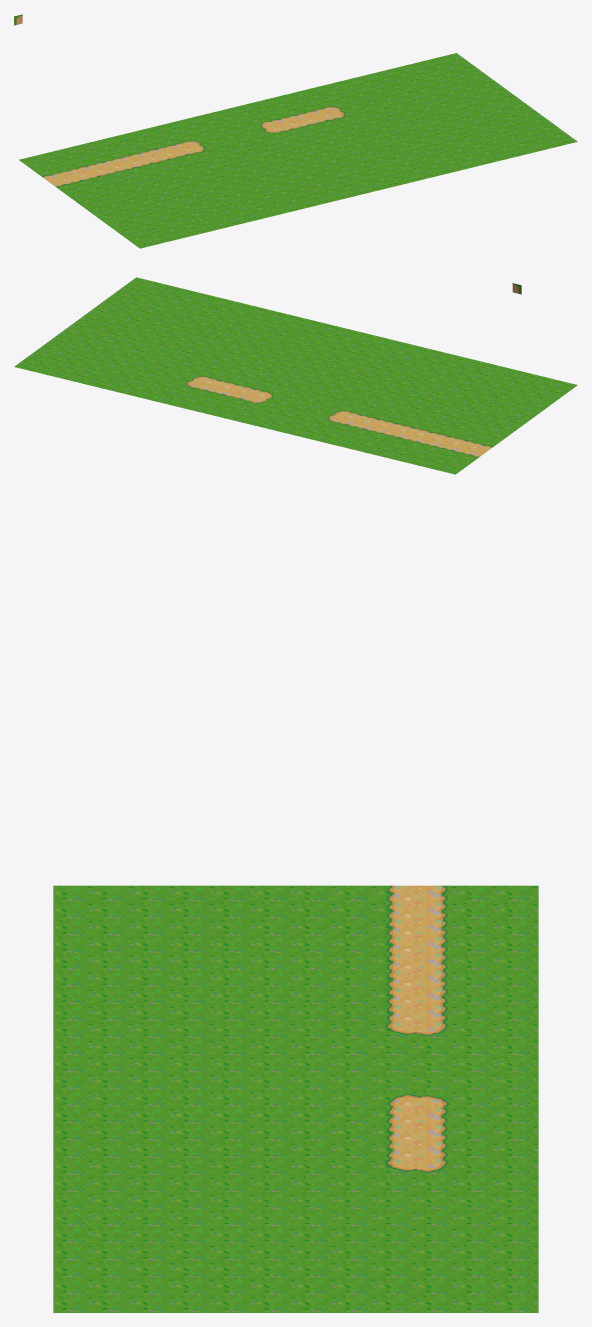
The model's file is demo-battlescene-1-big.obj.
The picture shows the model from 3 angles, top to bottom: view 1: azimuth 30°, elevation 25°; view 2: azimuth 150°, elevation 25°; view 3: azimuth 270°, elevation 25°; orthographic projection. The views are drawn at different scales.
Visible parts, largest first — view 1: Default; view 2: Default; view 3: Default.
Part boxes in pixels (box(x1,y1,x2,y2)): Default: box(14, 14, 577, 248); Default: box(14, 277, 577, 474); Default: box(53, 885, 538, 1312).
Size of the model in its own units: 54 by 19 by 24.
